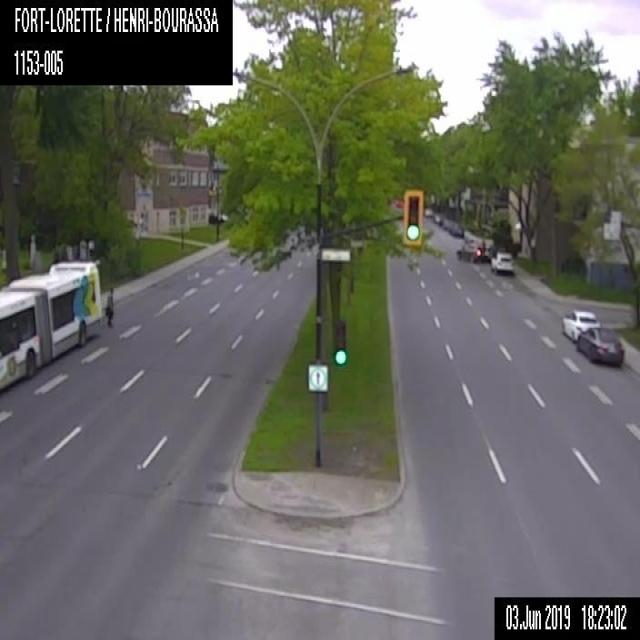bus: (0, 256, 104, 396)
pedestrian: (104, 285, 114, 327)
vehicle: (576, 328, 626, 368), (560, 308, 600, 342), (456, 238, 488, 262), (490, 250, 514, 274), (449, 221, 464, 237), (443, 217, 452, 229), (433, 212, 442, 223)
